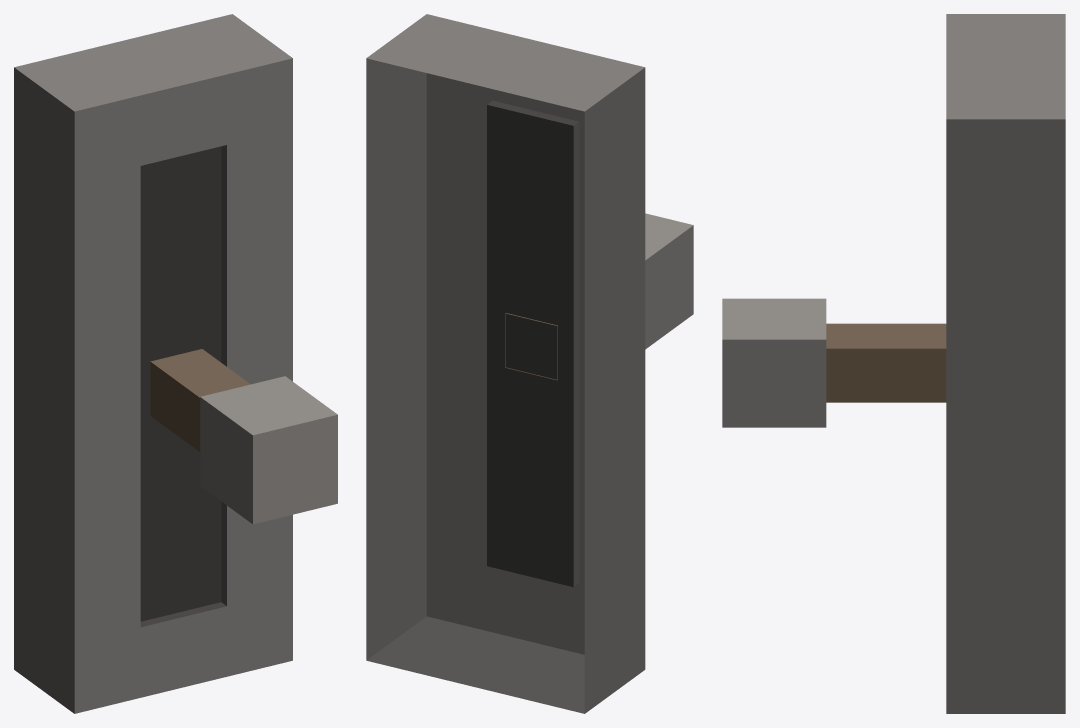
The model's file is SD_Prop_Lever_Wall_01.fbx.
3 views of the same model, side by side, from view 1: azimuth 30°, elevation 25°; view 2: azimuth 150°, elevation 25°; view 3: azimuth 270°, elevation 25° (orthographic).
Visible parts, largest first — view 1: SD_Prop_Lever_Wall_01, Handle; view 2: SD_Prop_Lever_Wall_01, Handle; view 3: SD_Prop_Lever_Wall_01, Handle.
Part boxes in pixels (x1=…): SD_Prop_Lever_Wall_01: x1=14, y1=14, x2=292, y2=713; Handle: x1=150, y1=349, x2=337, y2=524; SD_Prop_Lever_Wall_01: x1=366, y1=14, x2=645, y2=713; Handle: x1=505, y1=213, x2=693, y2=380; SD_Prop_Lever_Wall_01: x1=946, y1=14, x2=1065, y2=713; Handle: x1=722, y1=298, x2=946, y2=427.
Bounding box in the file's own units: 0.6021 × 1.59 × 0.8298.
